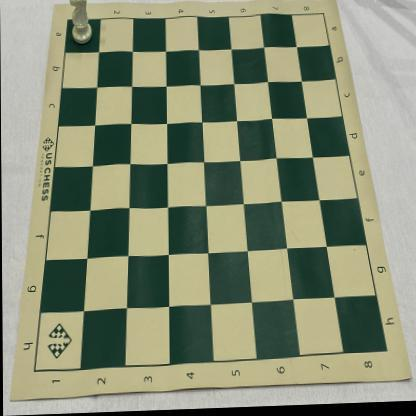white-knight: (68, 0, 94, 47)
